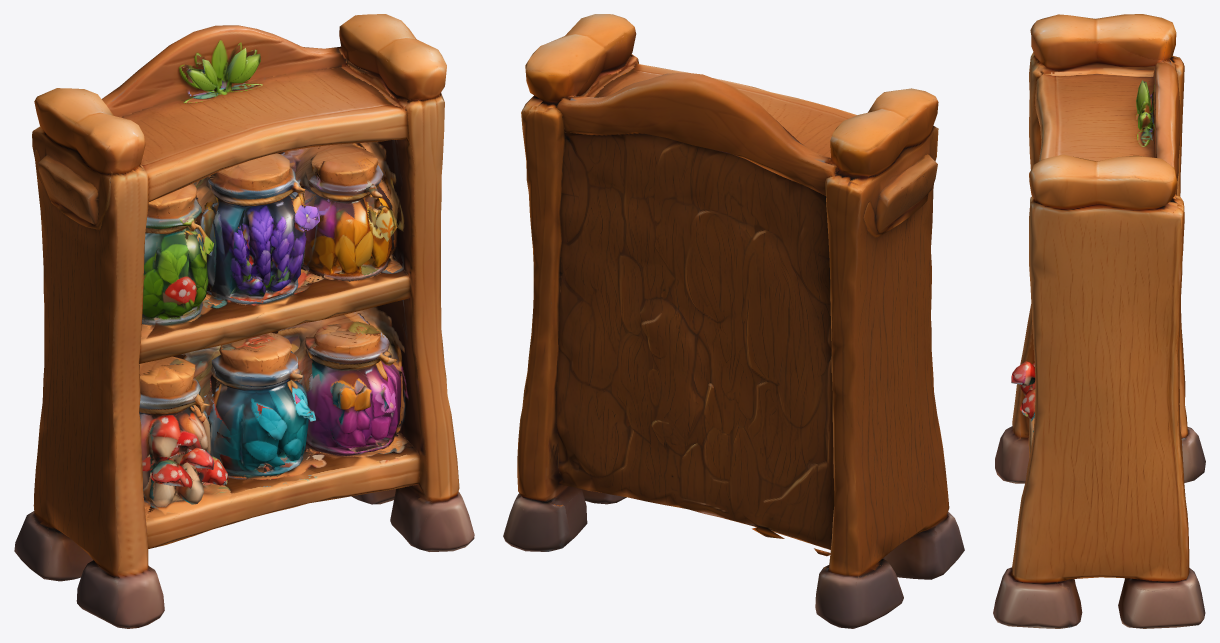
The model's file is herb-shelf.glb.
3 views of the same model, side by side, from view 1: azimuth 30°, elevation 25°; view 2: azimuth 150°, elevation 25°; view 3: azimuth 270°, elevation 25° (orthographic). The views are drawn at different scales.
Parts seen in each view (by area): view 1: texture_mapping; view 2: texture_mapping; view 3: texture_mapping.
Part boxes in pixels (x1,y1,x2,y2): texture_mapping: (14,14,474,628); texture_mapping: (503,14,964,628); texture_mapping: (993,14,1205,628).
Size of the model in its own units: 0.7934 by 1 by 0.4079.
1 material, 1 textured.
